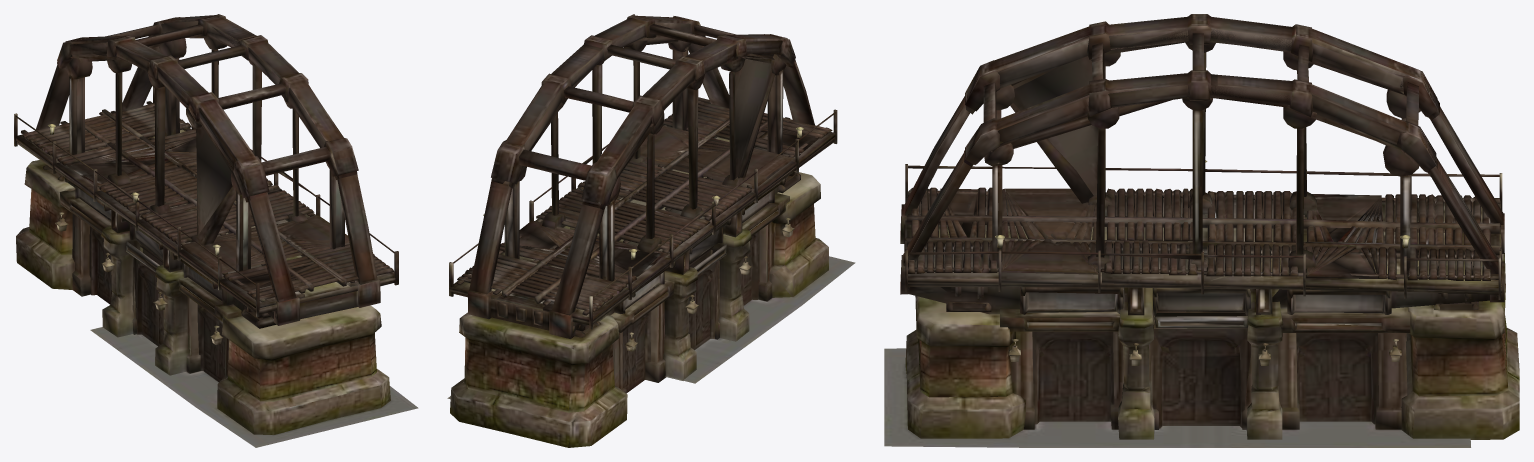
The model's file is lm_long_bien.glb.
The picture shows the model from 3 angles, left to right: view 1: azimuth 30°, elevation 25°; view 2: azimuth 150°, elevation 25°; view 3: azimuth 270°, elevation 25°; orthographic projection. The views are drawn at different scales.
Parts seen in each view (by area): view 1: Body; view 2: Body; view 3: Body.
Boxes of the visible parts, bbox=[...] form: Body: bbox=[14, 14, 418, 447]; Body: bbox=[447, 14, 855, 447]; Body: bbox=[884, 14, 1519, 447].
Size of the model in its own units: 10 by 16.22 by 26.48.
2 materials, 2 textured.
